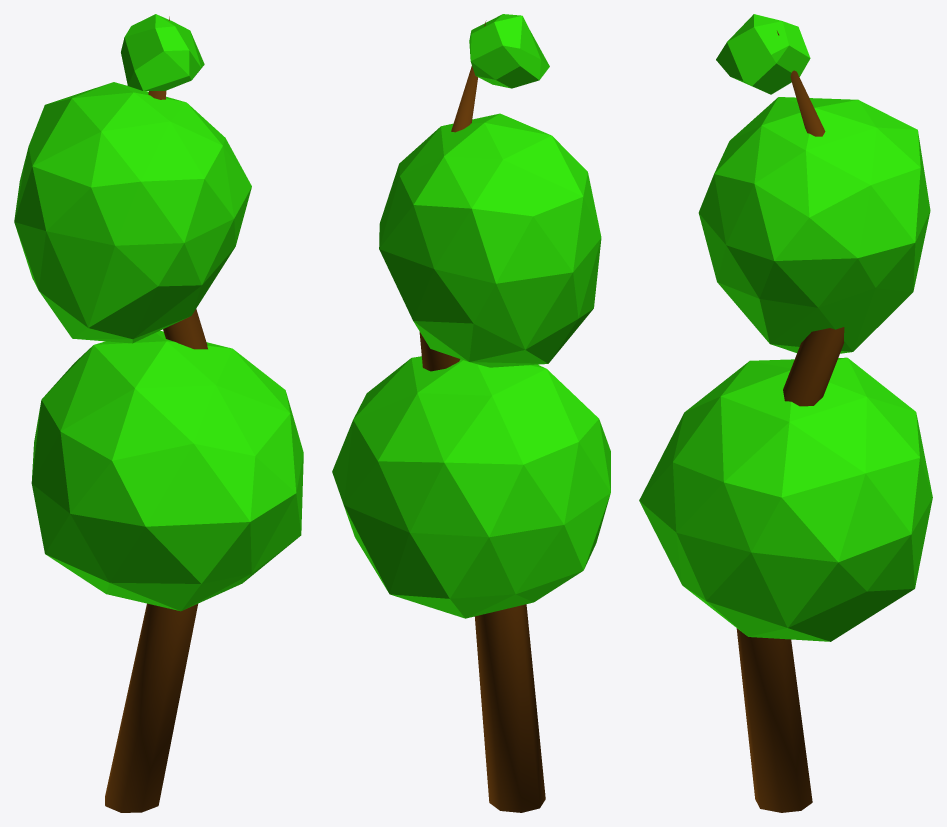
The model's file is scenery_tree.glb.
The picture shows the model from 3 angles, left to right: view 1: azimuth 30°, elevation 25°; view 2: azimuth 150°, elevation 25°; view 3: azimuth 270°, elevation 25°; orthographic projection. The views are drawn at different scales.
Parts seen in each view (by area): view 1: Icosphere, Plane; view 2: Icosphere, Plane; view 3: Icosphere, Plane.
Boxes of the visible parts, x1,y1,x2,y2 form: Icosphere: (14, 14, 303, 611); Plane: (105, 16, 207, 812); Icosphere: (332, 14, 610, 618); Plane: (419, 20, 545, 812); Icosphere: (639, 14, 932, 641); Plane: (736, 31, 844, 812).
Size of the model in its own units: 32.29 by 97.6 by 32.82.
